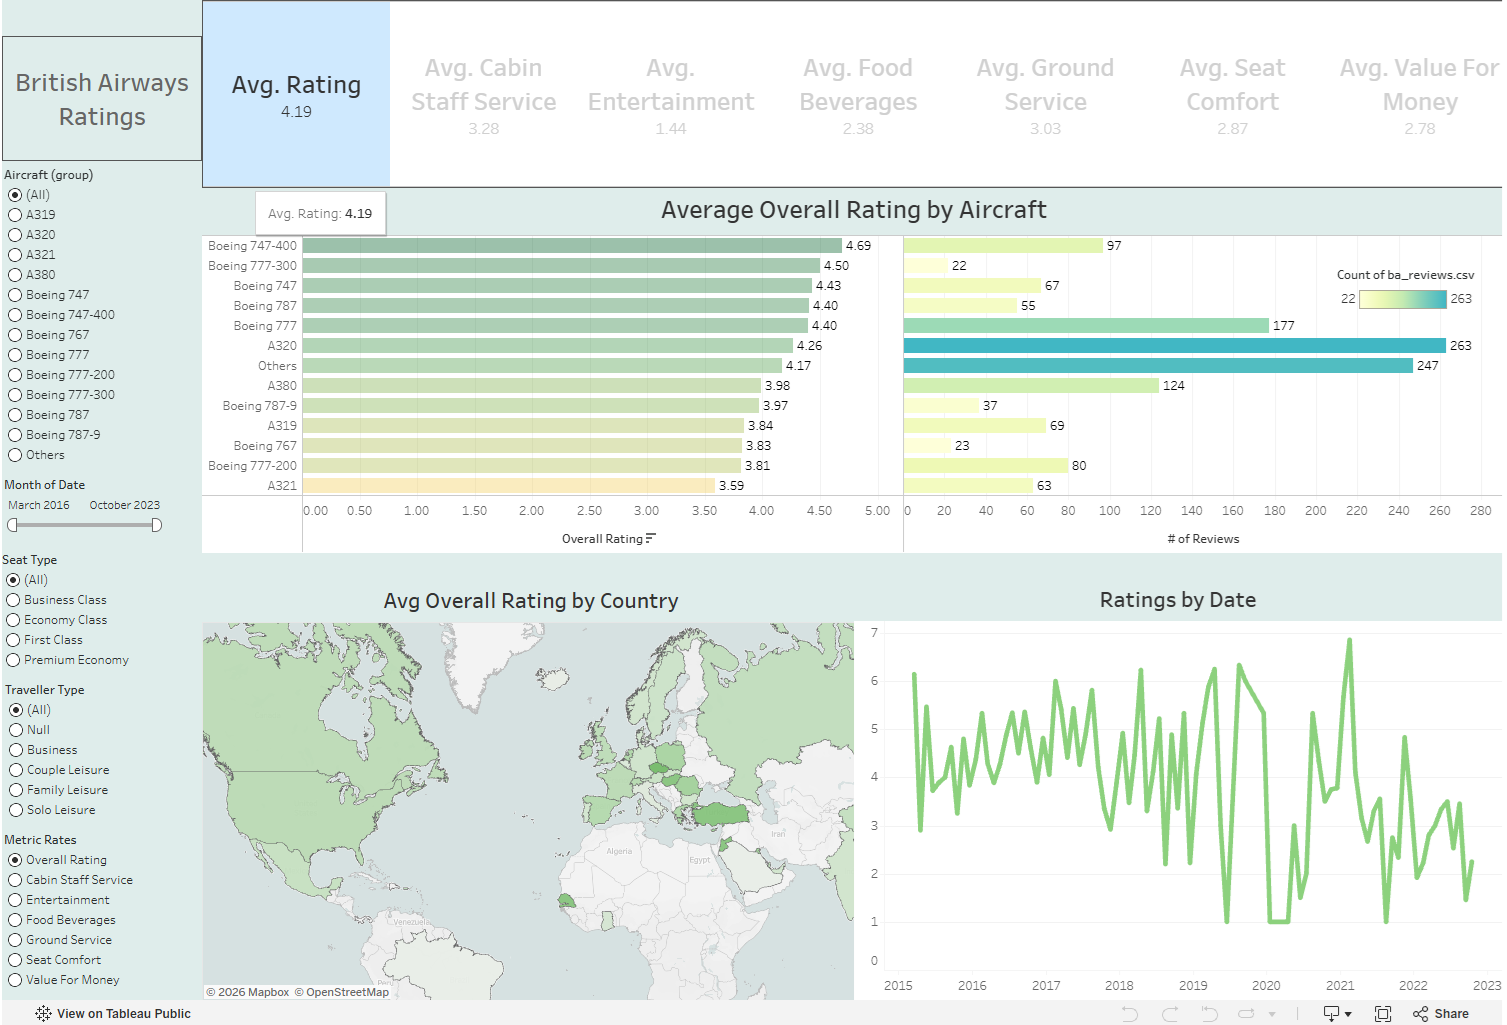

The page's visual inventory and layout, read from the dashboard file:
{"tool":"tableau","page":{"name":"Dashboard 1","canvas":[1500,1000],"ordinal":0},"visuals":[{"type":"text","box":[0,36,200,125]},{"type":"filter","title":"Sheet 1","param":"[federated.0g8dtdx0tolwnw181bi041ng8kri].[Aircraft (group)]","box":[2,165,235,304]},{"type":"worksheet","title":"Sheet 5","mark":"Automatic","cols":["Calculation_0001055157305526","ba_reviews.csv_59E74D62626B402F82A34A440BBB3A5A"],"box":[200,186,1304,396]},{"type":"legend","title":"Sheet 5","param":"[federated.0g8dtdx0tolwnw181bi041ng8kri].[__tableau_internal_object_id__].[cnt:b","box":[1335,266,140,80]},{"type":"filter","title":"Sheet 1","param":"[federated.0g8dtdx0tolwnw181bi041ng8kri].[tmn:date:qk]","box":[2,475,160,75]},{"type":"filter","title":"Sheet 1","param":"[federated.0g8dtdx0tolwnw181bi041ng8kri].[none:seat_type:nk]","box":[0,550,160,155]},{"type":"worksheet","title":"Sheet 4","mark":"Automatic","rows":["Calculation_0001055157305526"],"cols":["date"],"box":[852,577,648,423]},{"type":"worksheet","title":"Sheet 1","mark":"Automatic","box":[200,578,659,423]},{"type":"filter","title":"Sheet 1","param":"[federated.0g8dtdx0tolwnw181bi041ng8kri].[none:traveller_type:nk]","box":[3,680,160,182]}]}

Visuals, with their boxes in screenshot pixels (x1, y1, x2, y2), scaled from the page's 1500x1000 canvas onto the 1507x1025 screenshot:
text: region(0, 37, 201, 165)
"Sheet 1" filter: region(2, 169, 238, 481)
"Sheet 5" worksheet: region(201, 191, 1506, 597)
"Sheet 5" legend: region(1341, 273, 1482, 355)
"Sheet 1" filter: region(2, 487, 163, 564)
"Sheet 1" filter: region(0, 564, 161, 723)
"Sheet 4" worksheet: region(856, 591, 1506, 1024)
"Sheet 1" worksheet: region(201, 592, 863, 1024)
"Sheet 1" filter: region(3, 697, 164, 884)
